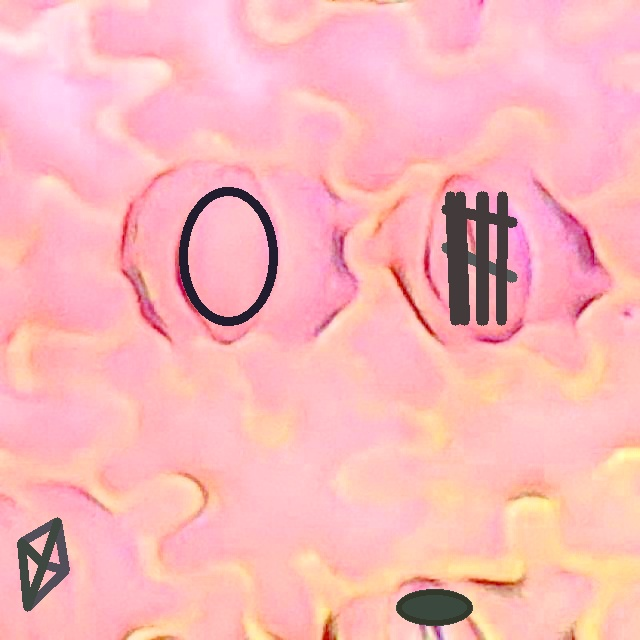close: (178, 187, 279, 326), (441, 191, 516, 325), (17, 517, 69, 611)
open: (396, 589, 472, 626)
